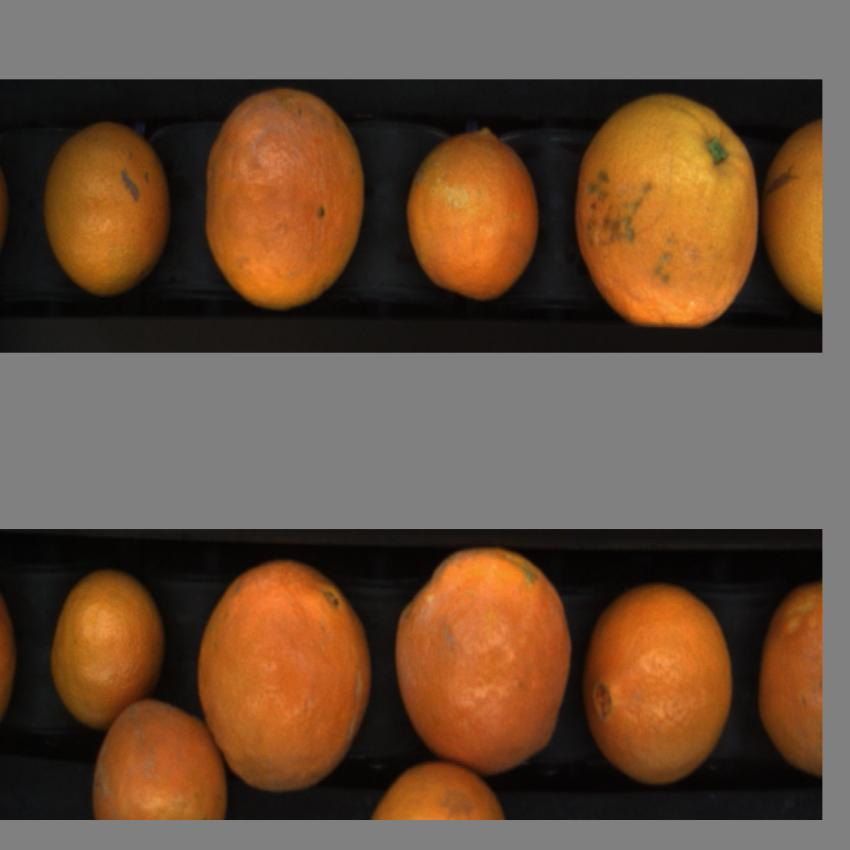Buen estado: (572, 90, 762, 328), (582, 582, 735, 780), (399, 117, 543, 310), (42, 114, 174, 298), (43, 568, 172, 731), (90, 696, 226, 828), (762, 108, 824, 322), (372, 754, 502, 818)
Mal estado: (196, 557, 376, 792), (201, 84, 371, 315), (392, 547, 570, 767), (759, 579, 822, 776)
